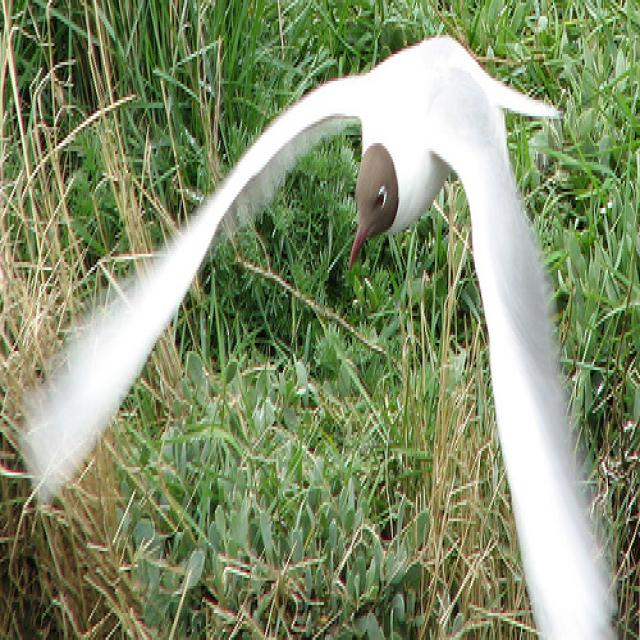bird: (9, 20, 633, 638)
